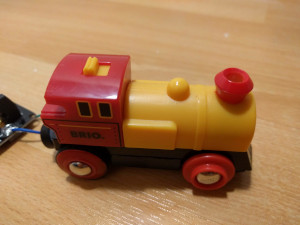brio: (41, 49, 258, 196)
